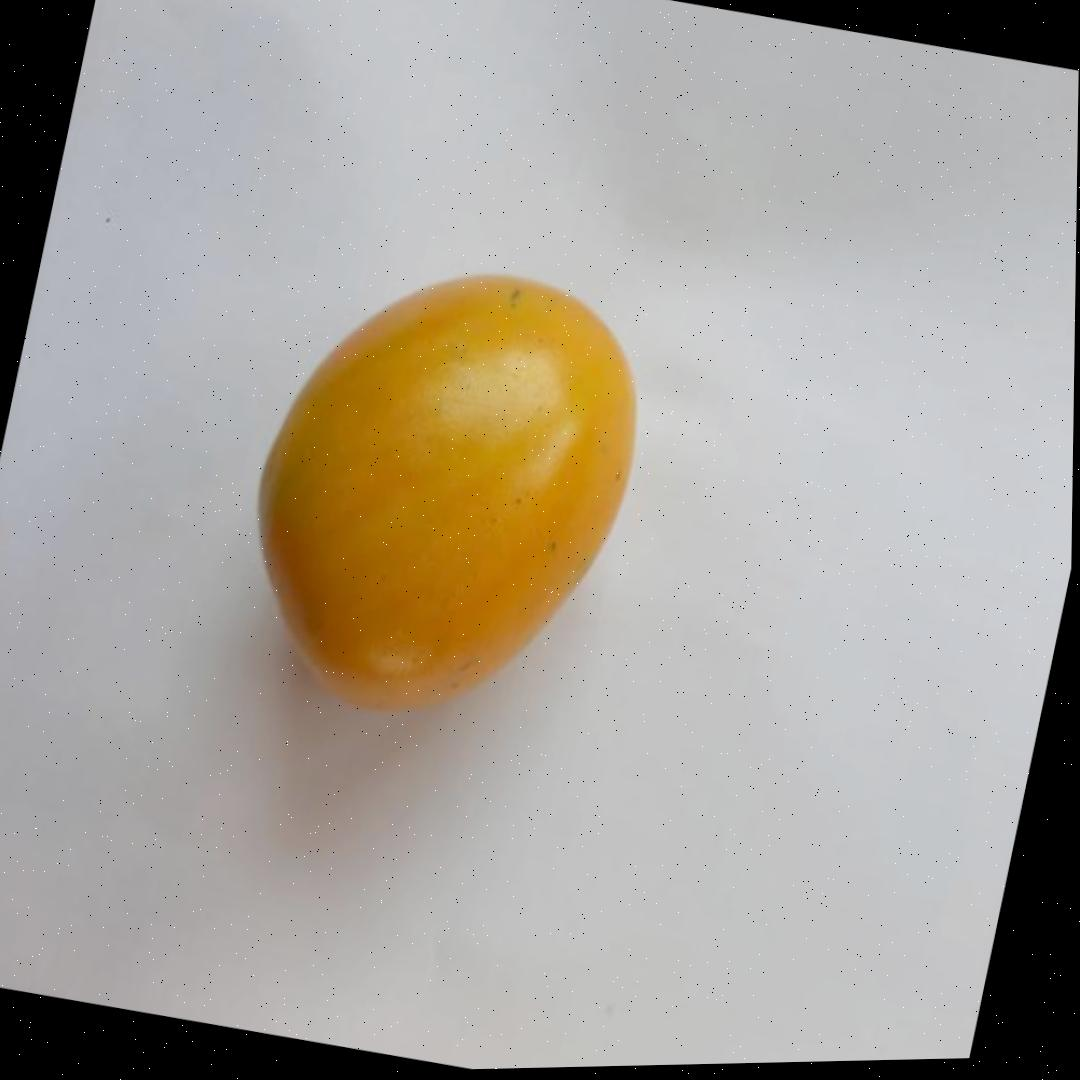setengah_matang: (213, 226, 668, 754)
